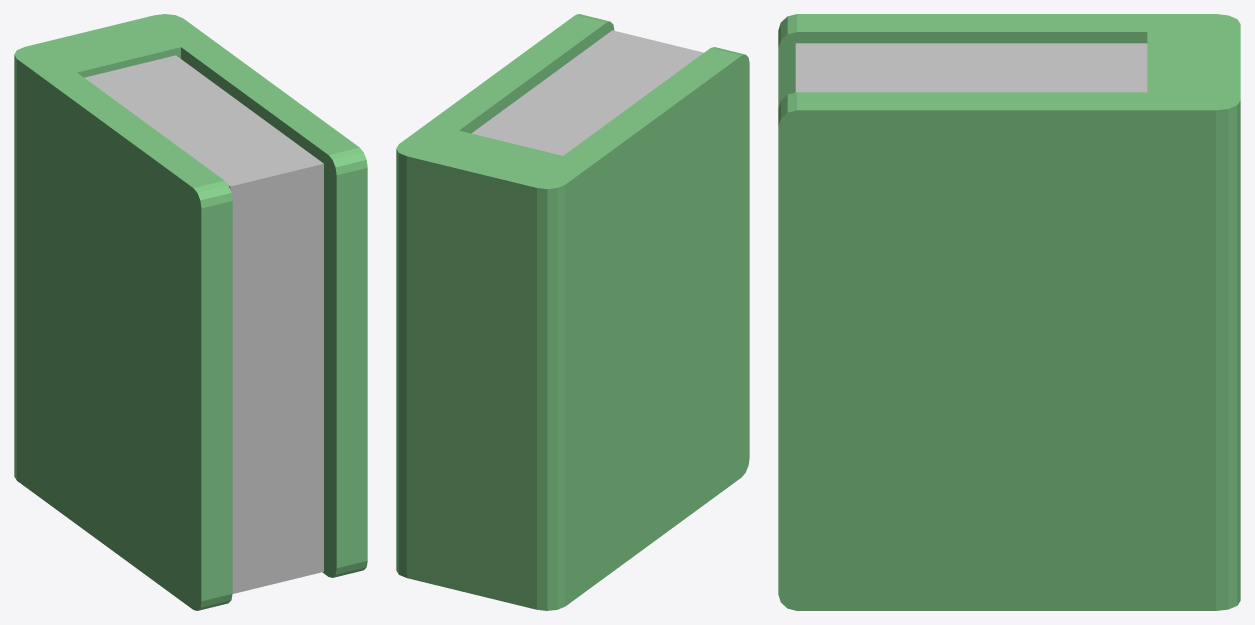
File: kirja2_GJ22.fbx
3 renders of one model, left to right at view 1: azimuth 30°, elevation 25°; view 2: azimuth 150°, elevation 25°; view 3: azimuth 270°, elevation 25°, orthographic. The views are drawn at different scales.
Visible parts, largest first — view 1: kirja; view 2: kirja; view 3: kirja.
Boxes of the visible parts, <box> form: kirja: <box>14,14,367,610</box>; kirja: <box>396,14,749,610</box>; kirja: <box>778,14,1240,610</box>.
Size of the model in its own units: 12.38 by 30 by 25.12.
